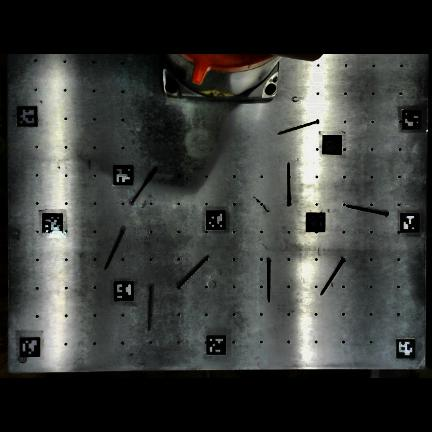golden_screw: (178, 256, 208, 287), (131, 167, 156, 203), (321, 258, 345, 293), (105, 230, 124, 268), (279, 119, 319, 133), (347, 205, 388, 215), (148, 286, 153, 329), (287, 162, 291, 204), (268, 259, 271, 301)
marker: (17, 107, 38, 128), (400, 213, 420, 234), (42, 214, 62, 234), (113, 166, 133, 186), (114, 282, 134, 302), (206, 337, 226, 357), (403, 111, 422, 132), (206, 210, 225, 231), (20, 338, 40, 357), (396, 339, 415, 359), (306, 213, 325, 232), (323, 136, 342, 154)
